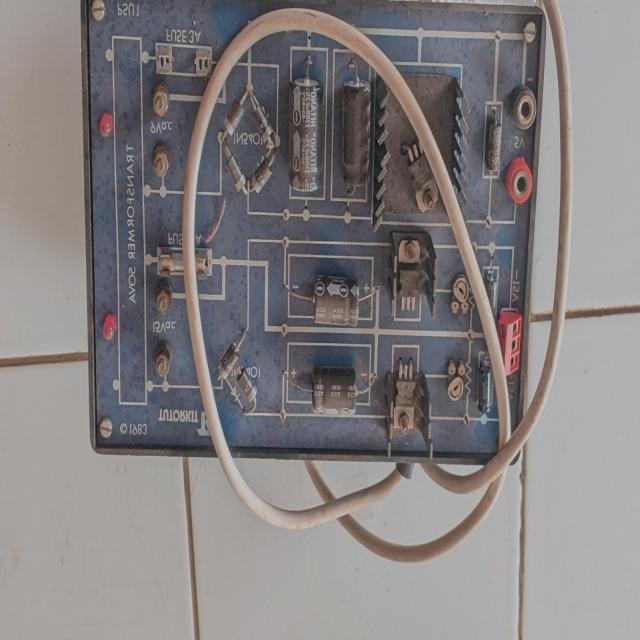Tutor Kit of Electronics: (78, 0, 557, 491)
